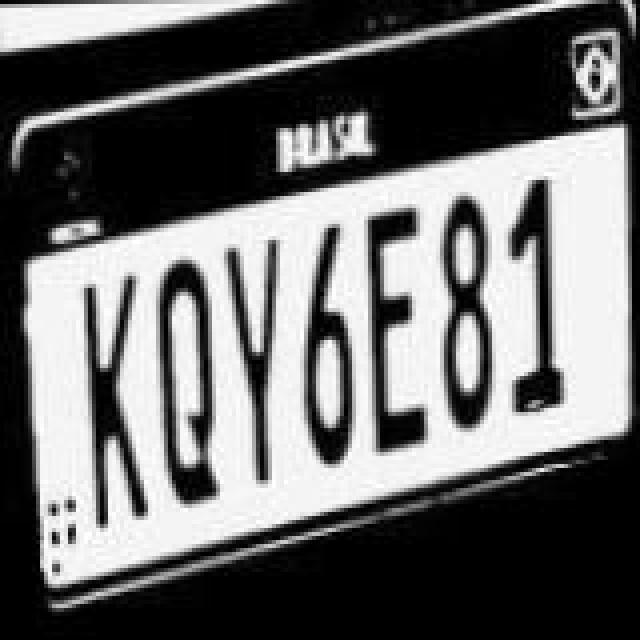1: (502, 158, 566, 430)
6: (298, 206, 362, 482)
8: (436, 168, 496, 440)
E: (364, 184, 432, 460)
K: (76, 260, 148, 536)
Q: (150, 242, 222, 510)
Y: (226, 228, 290, 500)
